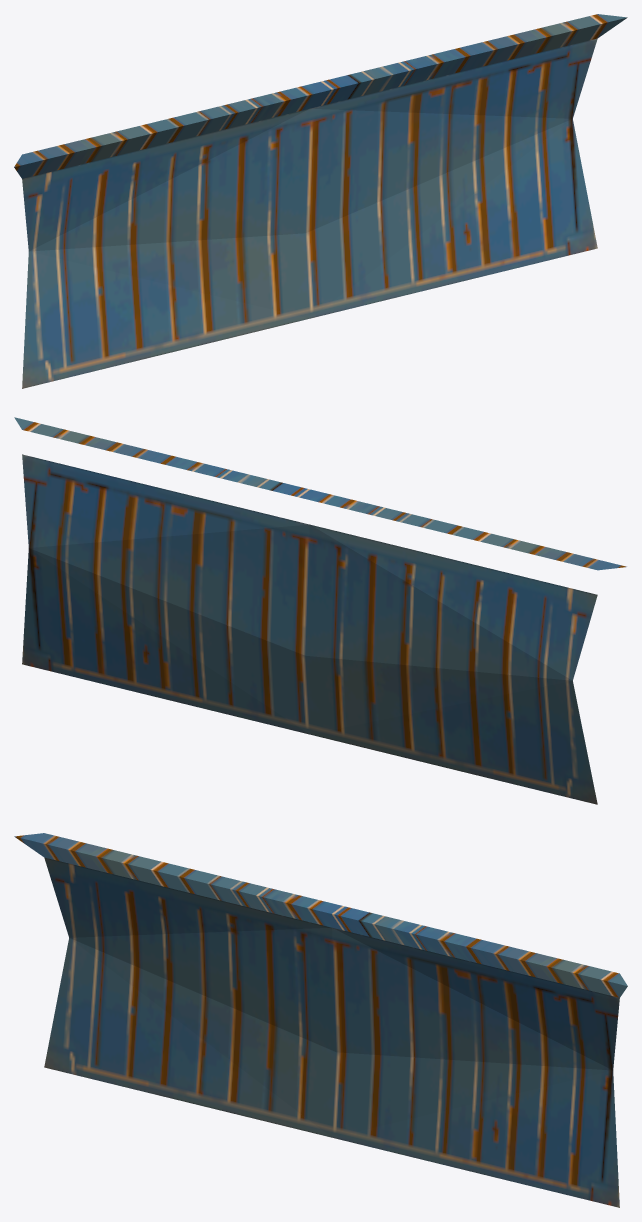
File: W_A1_xxxx [BlauesBlech]_1720.glb
3 renders of one model, top to bottom at view 1: azimuth 30°, elevation 25°; view 2: azimuth 150°, elevation 25°; view 3: azimuth 330°, elevation 25°, orthographic.
Visible parts, largest first — view 1: polySurfaceShape787, polySurfaceShape1065; view 2: polySurfaceShape787, polySurfaceShape1065; view 3: polySurfaceShape787, polySurfaceShape1065.
Boxes of the visible parts, x1=… form: polySurfaceShape787: x1=22, y1=38, x2=597, y2=388; polySurfaceShape1065: x1=14, y1=14, x2=627, y2=178; polySurfaceShape787: x1=22, y1=454, x2=597, y2=804; polySurfaceShape1065: x1=14, y1=417, x2=626, y2=570; polySurfaceShape787: x1=44, y1=857, x2=619, y2=1207; polySurfaceShape1065: x1=14, y1=833, x2=627, y2=997.
Size of the model in its own units: 1.07 by 0.3891 by 0.0607.
2 materials, 2 textured.
